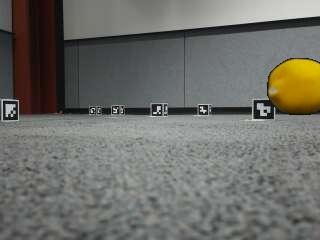lemon: (268, 60, 320, 115)
